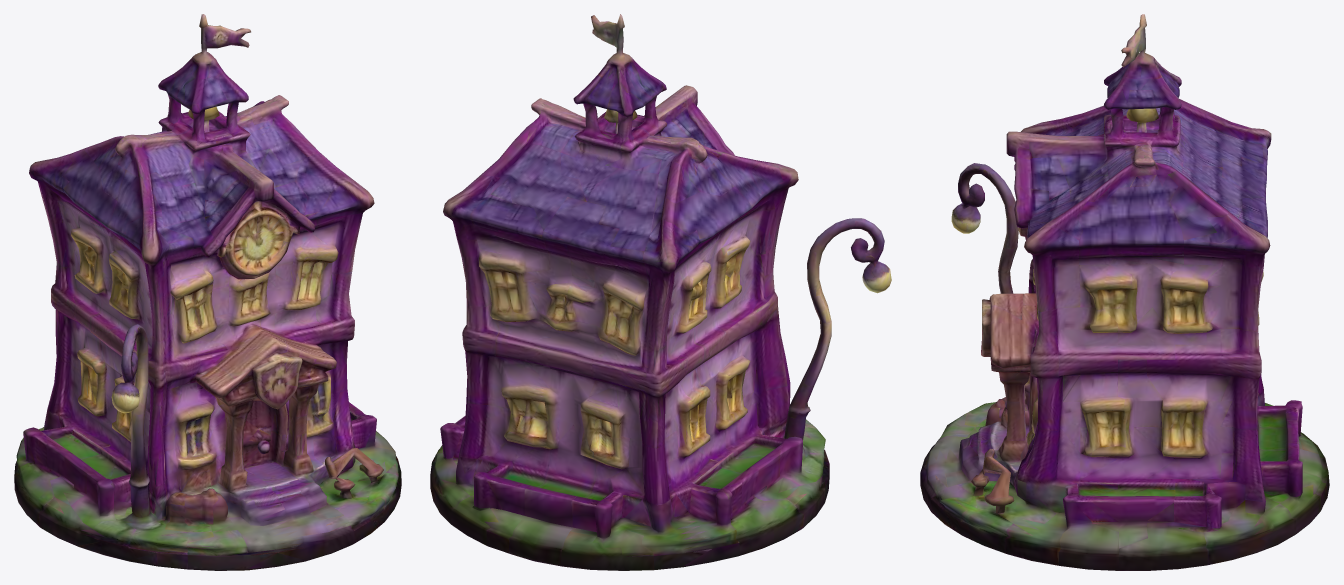
Rendered from clocktower_fin.glb.
The picture shows the model from 3 angles, left to right: view 1: azimuth 30°, elevation 25°; view 2: azimuth 150°, elevation 25°; view 3: azimuth 270°, elevation 25°; orthographic projection. The views are drawn at different scales.
Visible parts, largest first — view 1: Meshy_Mesh_0.002; view 2: Meshy_Mesh_0.002; view 3: Meshy_Mesh_0.002.
Boxes of the visible parts, x1=… form: Meshy_Mesh_0.002: x1=14, y1=14, x2=401, y2=570; Meshy_Mesh_0.002: x1=430, y1=14, x2=891, y2=570; Meshy_Mesh_0.002: x1=920, y1=14, x2=1329, y2=570.
Bounding box in the file's own units: 1.45 × 1.91 × 1.48.
Materials: 1 (1 with a texture image).
